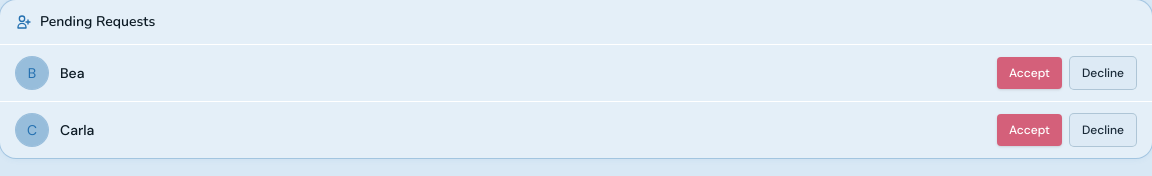
Test case: PendingRequestsWidget › requires inline confirmation before declining
Expected: the text "Bea" is shown, [60,64,84,82]
Click the button "Decline" in the row of "Bea".
click(1103, 73)  # box [1070,57,1136,89]
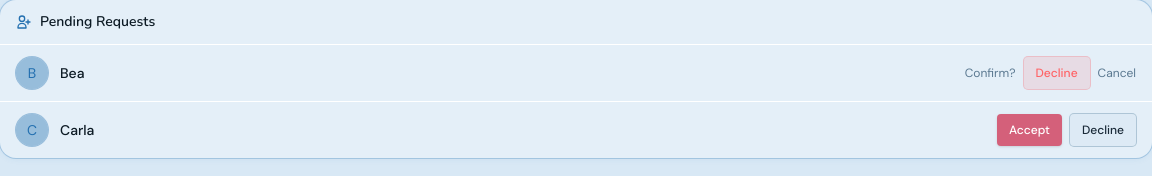
Click the button "Decline" next to "Confirm".
click(1057, 73)  # box [1024,57,1090,89]
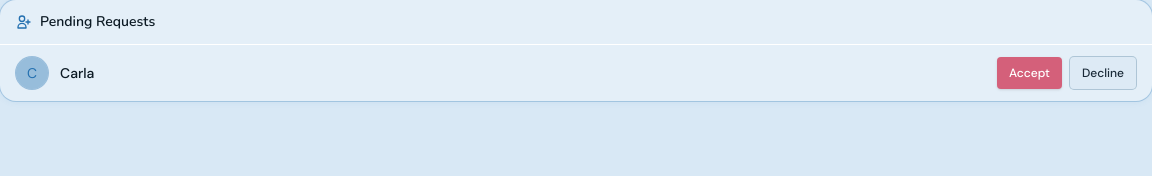
Result: the text "Bea" is gone
